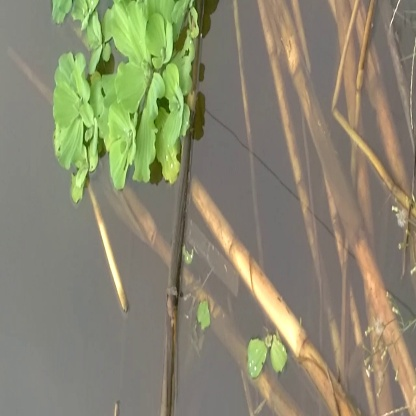grass: (53, 8, 198, 176)
